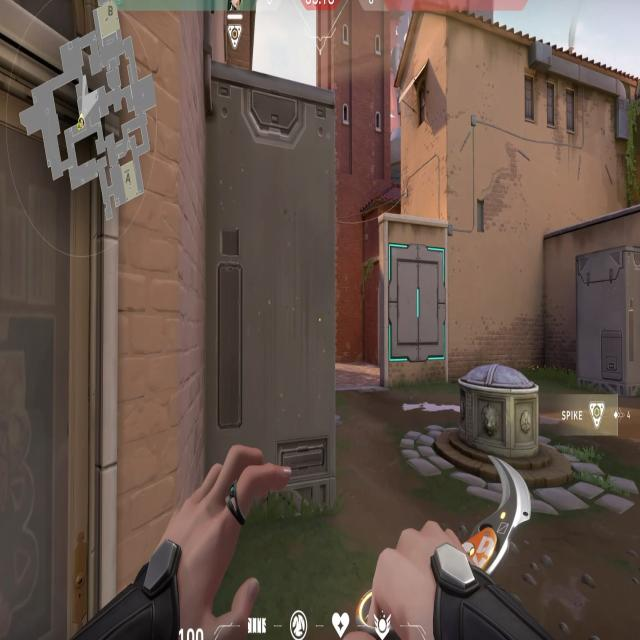Mid_Wall: (388, 237, 447, 370)
